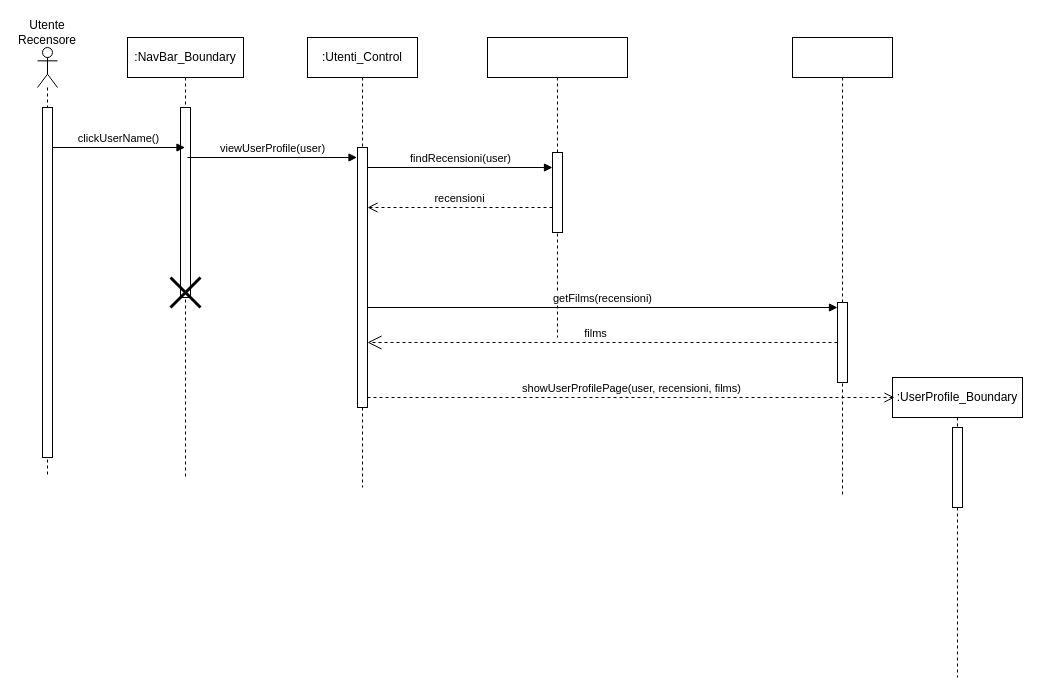
The diagram is 1040 pixels wide and 695 high, and some of its shapes have lost their labels. The centre of each missing label's shape, as x and y in pixels:
:Catalogo: the point at 842,267
:Catalogo_Recensioni: the point at 557,187
